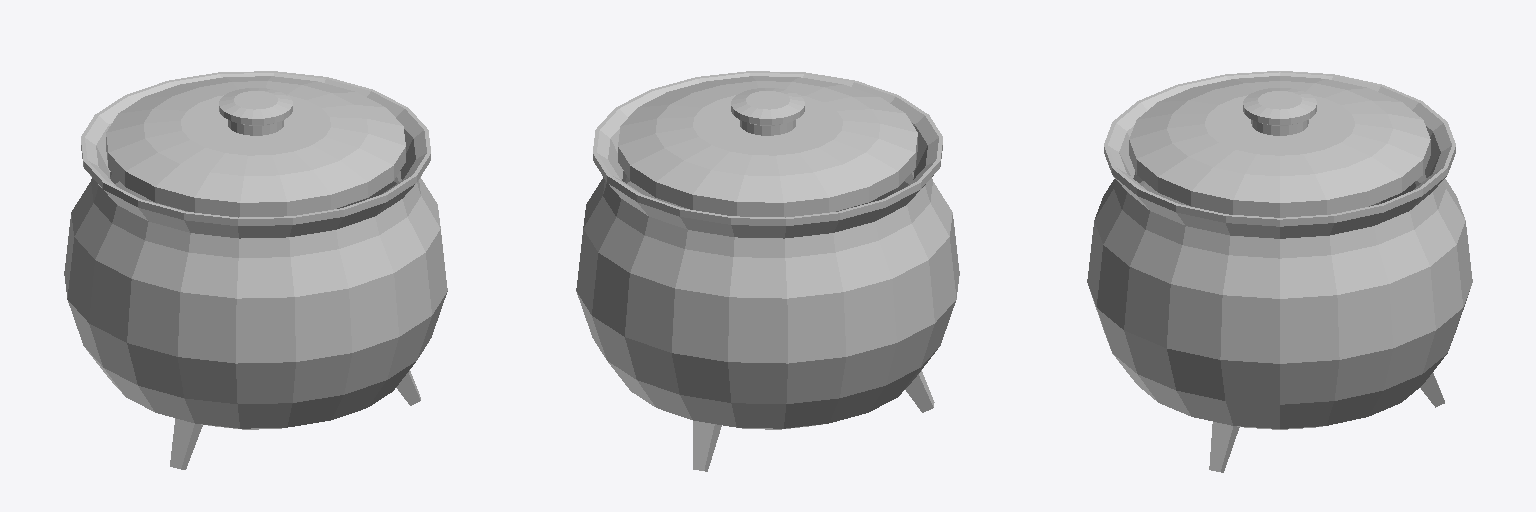
Rendered from cauldronGap.obj.
3 views of the same model, side by side, from view 1: azimuth 30°, elevation 25°; view 2: azimuth 150°, elevation 25°; view 3: azimuth 270°, elevation 25° (orthographic).
Parts seen in each view (by area): view 1: pCylinder1, pCylinder2; view 2: pCylinder1, pCylinder2; view 3: pCylinder1, pCylinder2.
Part boxes in pixels (x1,y1,x2,y2): pCylinder1: (64, 71, 447, 469); pCylinder2: (106, 76, 405, 217); pCylinder1: (576, 71, 959, 471); pCylinder2: (618, 76, 917, 217); pCylinder1: (1087, 71, 1472, 472); pCylinder2: (1129, 76, 1430, 217).
Bounding box in the file's own units: 20 × 17.83 × 20.